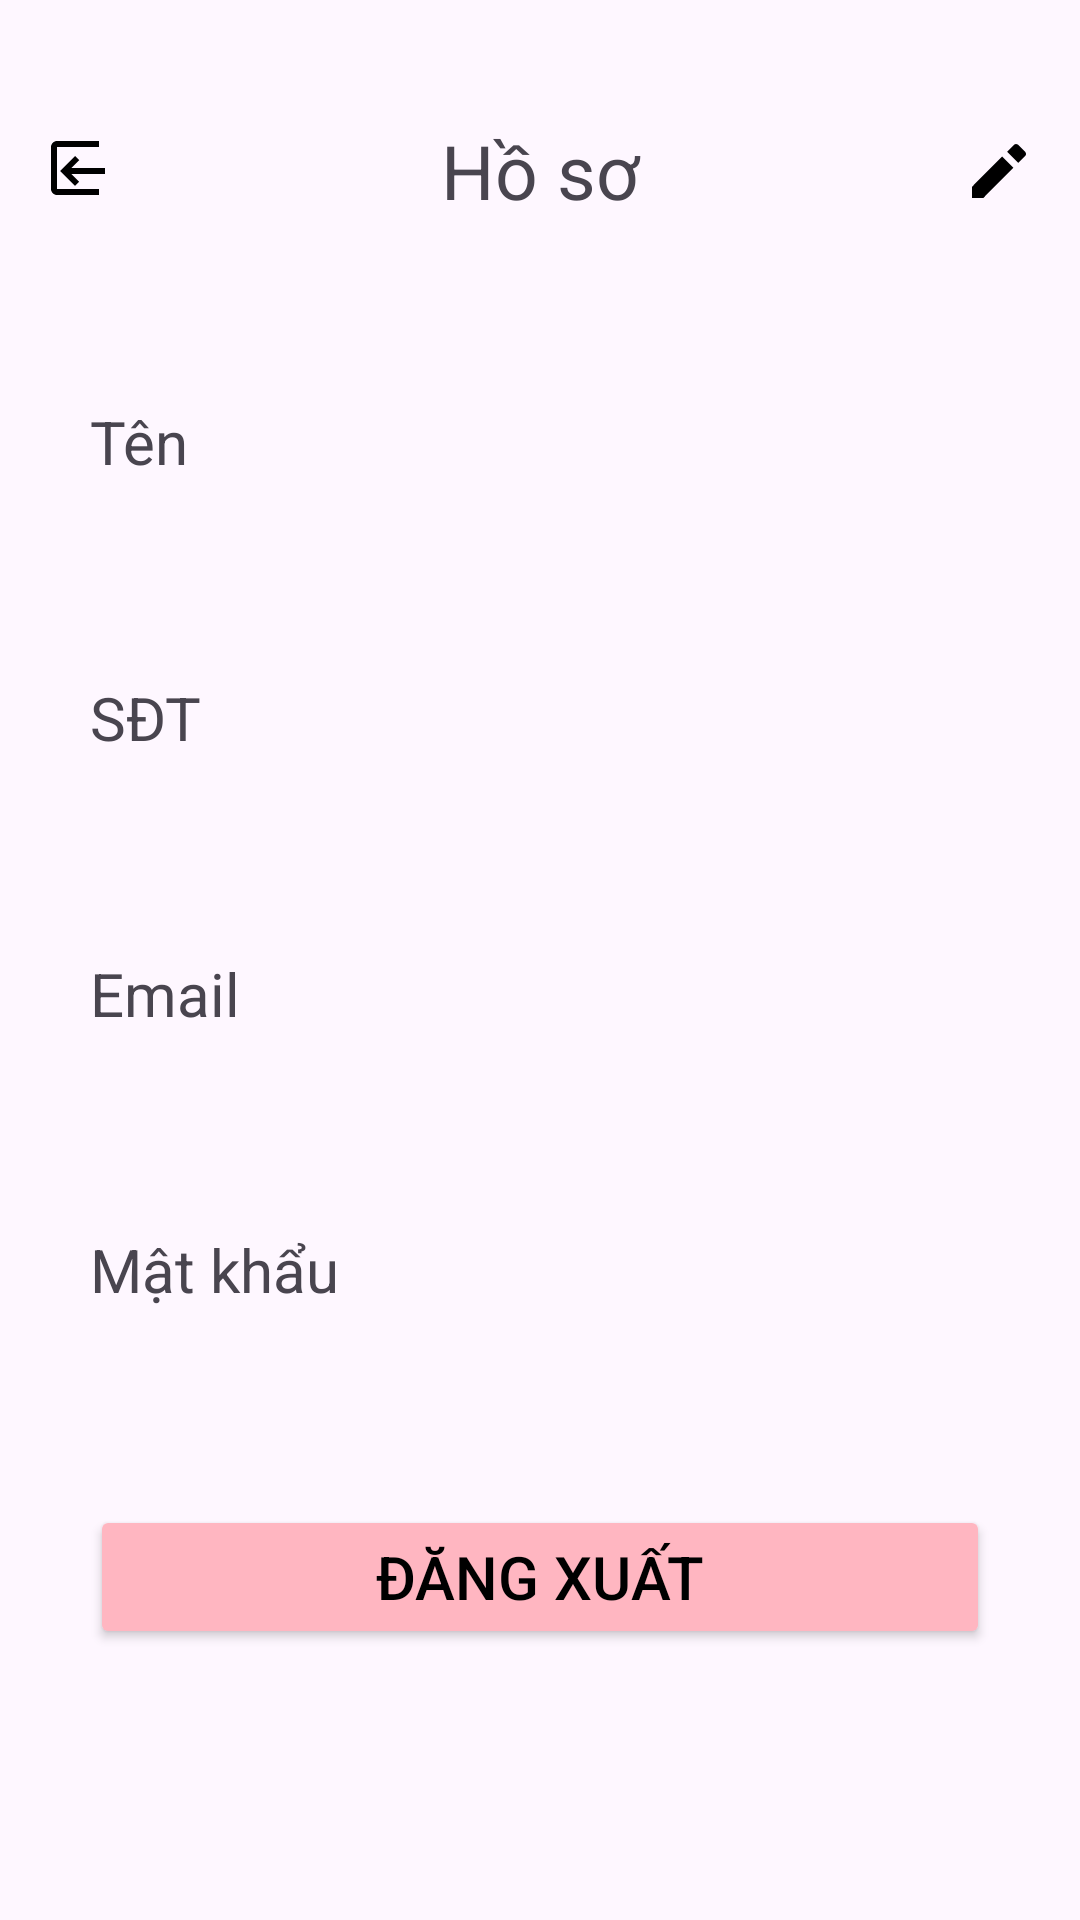

Named icons in this screenshot (1080px×1920px) and their bounding boxes, region(x1, y1, x2, y2):
exit: region(51, 141, 105, 195)
update: region(972, 144, 1026, 198)
